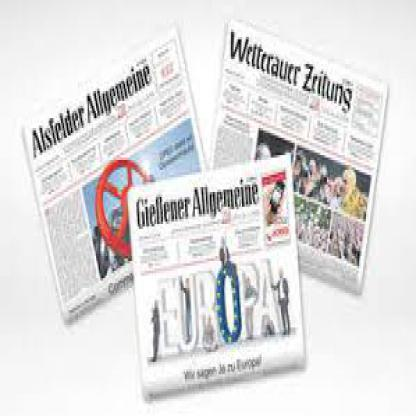paper: (21, 29, 206, 328), (212, 15, 388, 295), (126, 150, 304, 406)
